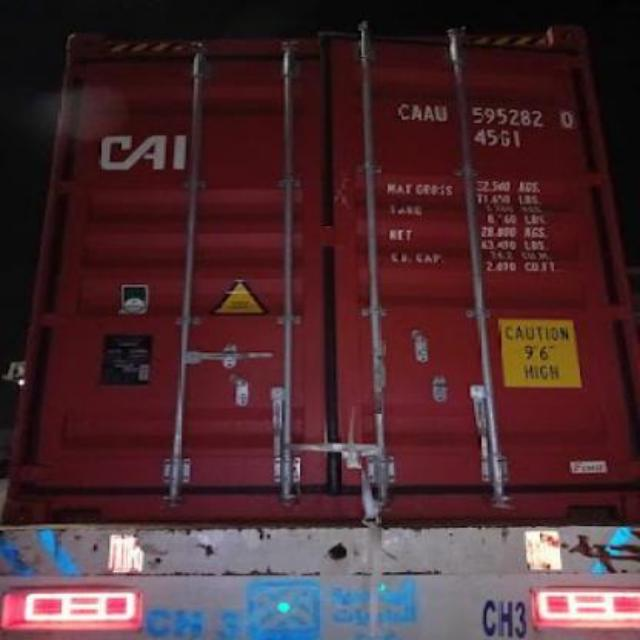0: (558, 106, 578, 132)
2: (530, 104, 546, 138), (506, 103, 522, 127)
5: (468, 97, 484, 127), (494, 94, 508, 128)
8: (522, 105, 530, 134)
9: (484, 99, 494, 129)
A: (422, 98, 434, 128), (410, 98, 422, 125)
C: (396, 94, 409, 124)
U: (434, 98, 452, 126)
